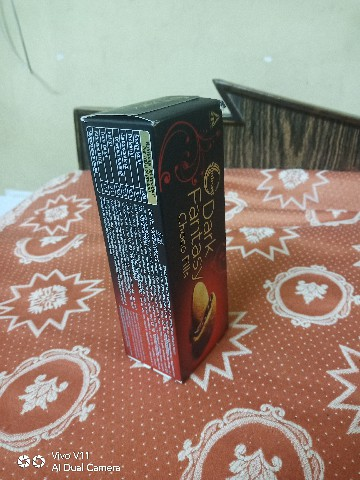darkfantasy big: (73, 93, 262, 379)
